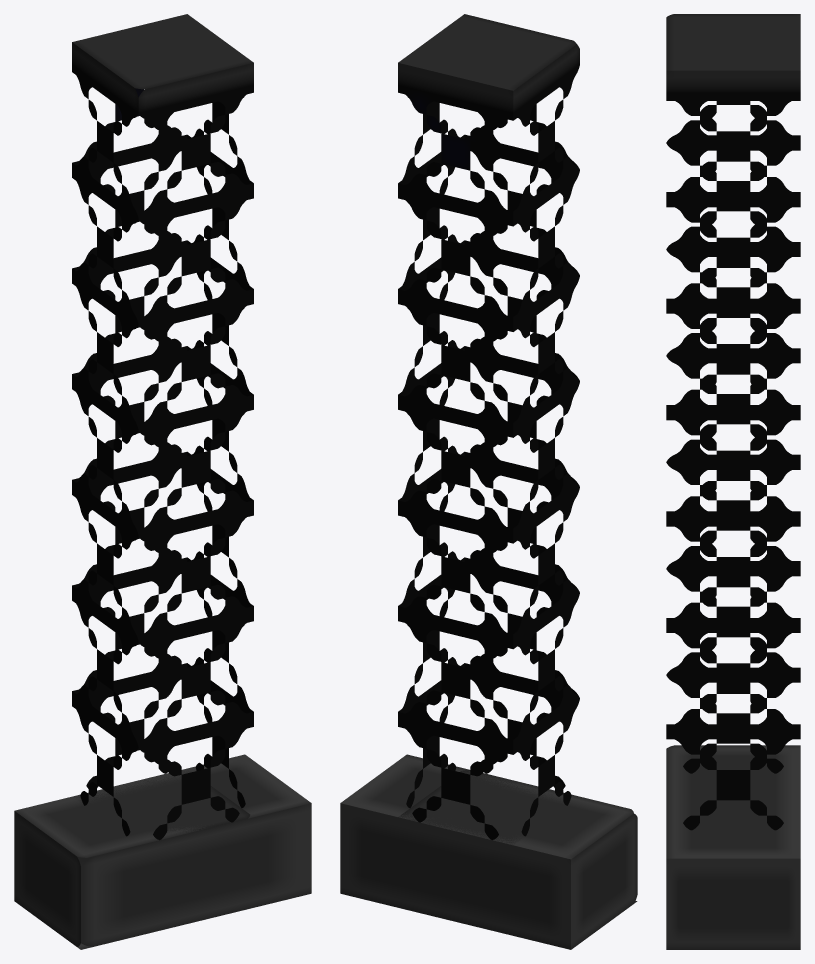
The model's file is launcher_support_frame_t2.obj.
3 views of the same model, side by side, from view 1: azimuth 30°, elevation 25°; view 2: azimuth 150°, elevation 25°; view 3: azimuth 270°, elevation 25° (orthographic).
Visible parts, largest first — view 1: Shape19, Shape18; view 2: Shape19, Shape18; view 3: Shape19, Shape18.
Boxes of the visible parts, bbox=[...] form: Shape19: bbox=[72, 14, 253, 840]; Shape18: bbox=[14, 754, 311, 949]; Shape19: bbox=[398, 14, 579, 844]; Shape18: bbox=[340, 754, 637, 949]; Shape19: bbox=[666, 14, 800, 830]; Shape18: bbox=[666, 745, 800, 949].
Bounding box in the file's own units: 1 × 3.5 × 0.5.
